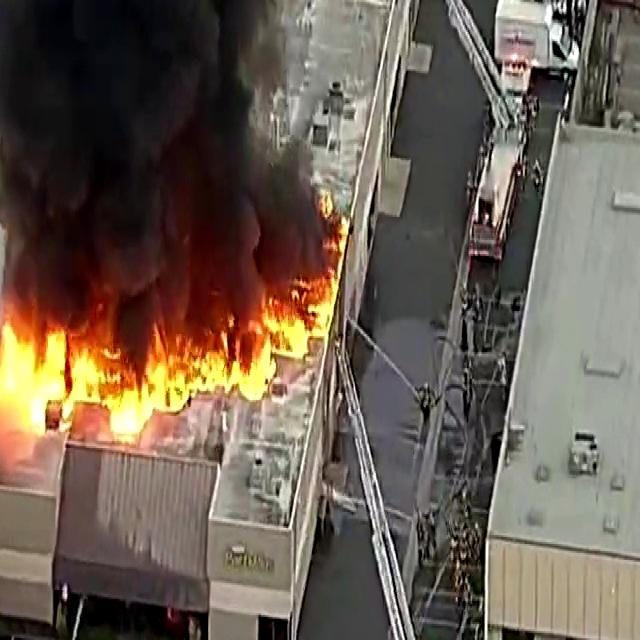fire: (50, 324, 209, 429), (209, 300, 307, 406), (0, 311, 82, 429)
smoke: (17, 0, 259, 272)
